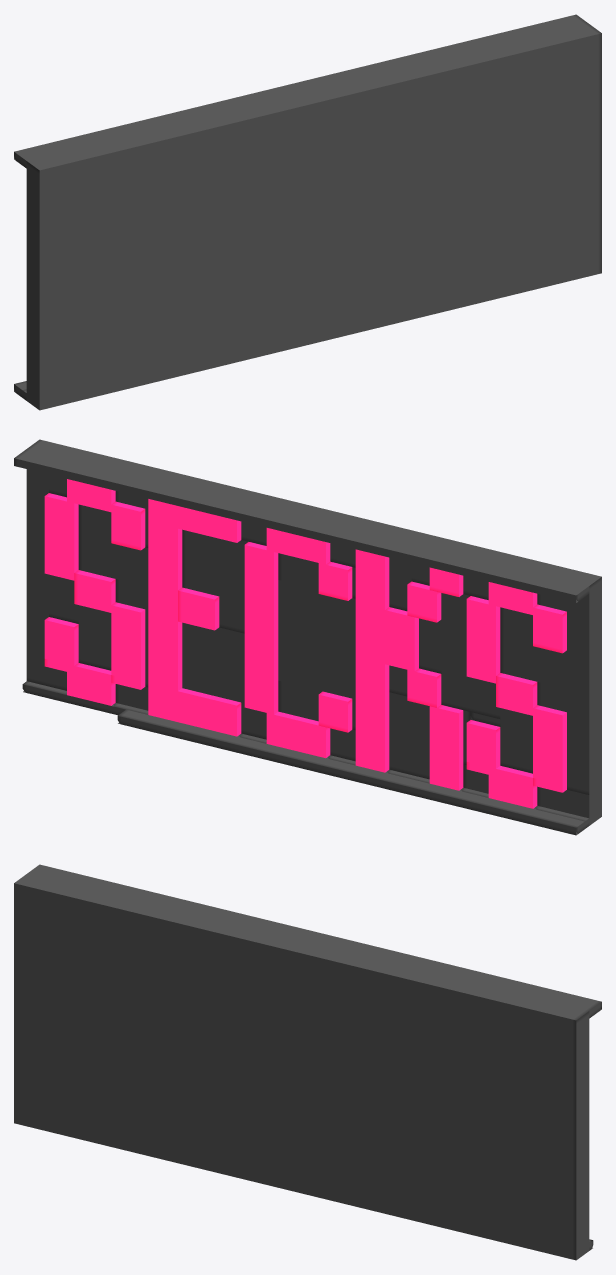
File: neon3.dae
3 views of the same model, one above another, from view 1: azimuth 30°, elevation 25°; view 2: azimuth 150°, elevation 25°; view 3: azimuth 330°, elevation 25° (orthographic).
Parts seen in each view (by area): view 1: Content; view 2: Content; view 3: Content.
Boxes of the visible parts, box(x1,y1,x2,y2) form: Content: box(14, 14, 601, 410); Content: box(14, 439, 601, 835); Content: box(14, 864, 601, 1260).
Bounding box in the file's own units: 76 × 31 × 6.
Materials: 1 (1 with a texture image).
